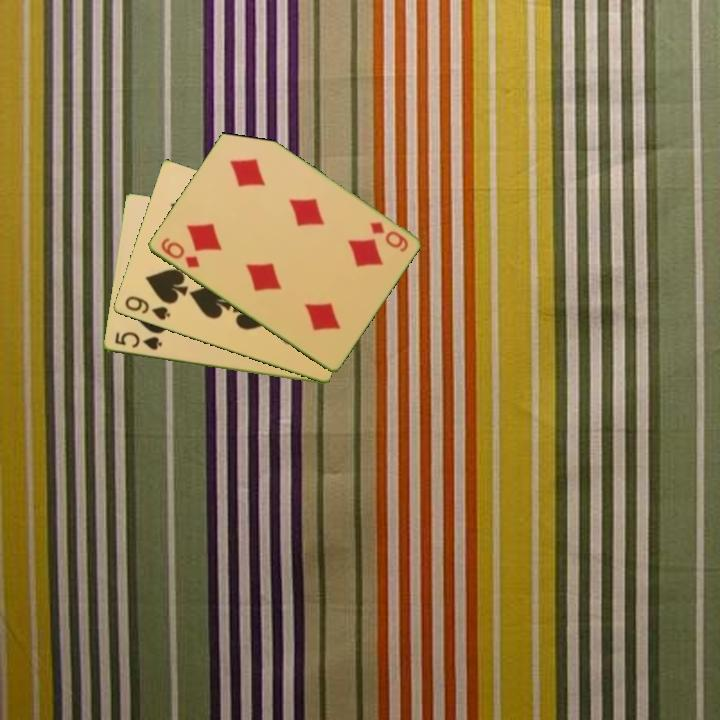5s: (111, 329, 165, 353)
6d: (157, 234, 202, 271), (366, 218, 411, 255)
9s: (121, 293, 173, 323)
